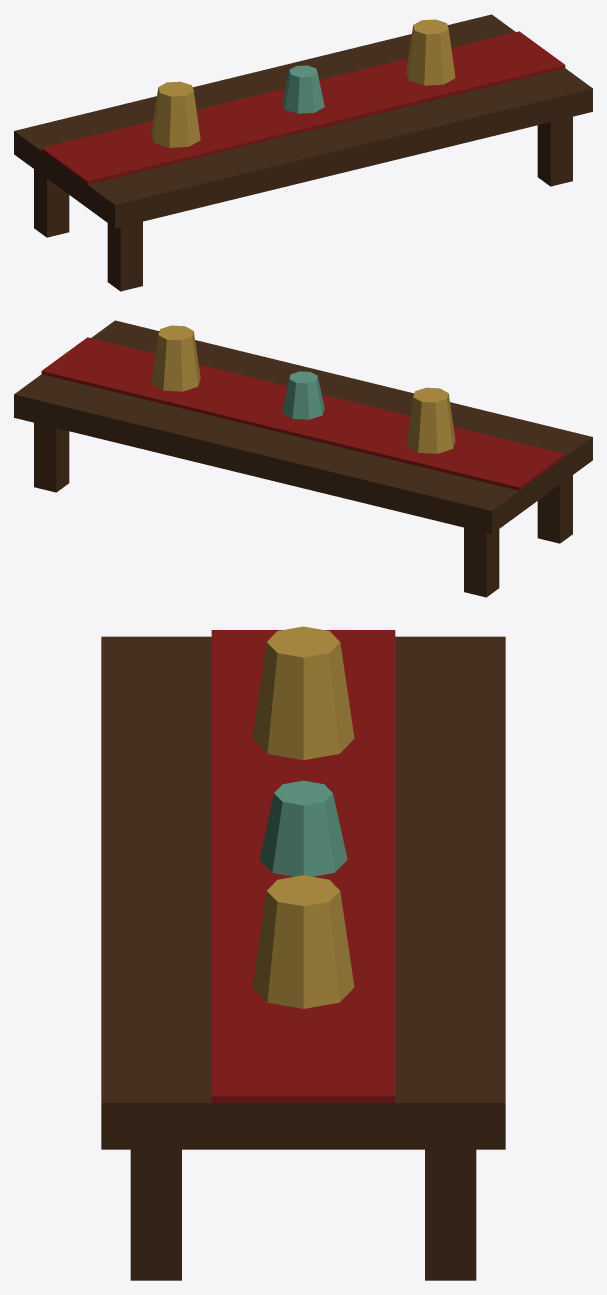
Rendered from altar-table.glb.
3 renders of one model, top to bottom at view 1: azimuth 30°, elevation 25°; view 2: azimuth 150°, elevation 25°; view 3: azimuth 270°, elevation 25°, orthographic. The views are drawn at different scales.
Parts seen in each view (by area): view 1: altar-table; view 2: altar-table; view 3: altar-table.
Boxes of the visible parts, box(x1,y1,x2,y2) form: altar-table: box(14, 14, 592, 291); altar-table: box(14, 320, 592, 597); altar-table: box(101, 626, 505, 1280).
Size of the model in its own units: 3 by 0.88 by 1.1.
